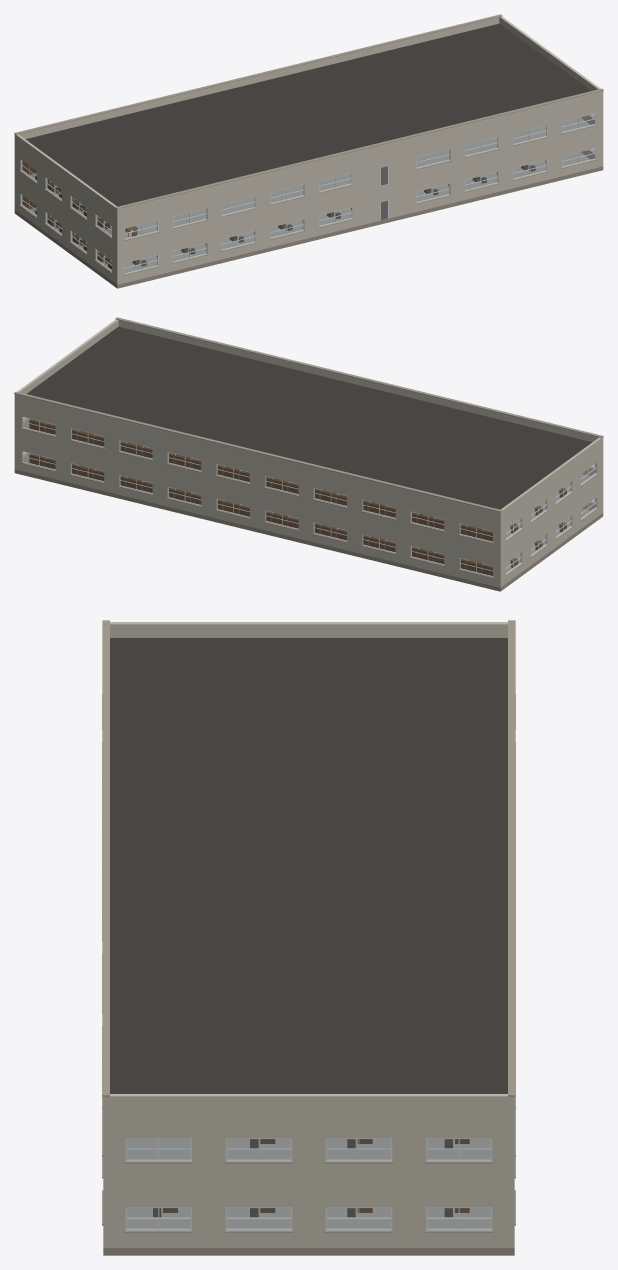
File: headquarters.glb
The picture shows the model from 3 angles, top to bottom: view 1: azimuth 30°, elevation 25°; view 2: azimuth 150°, elevation 25°; view 3: azimuth 270°, elevation 25°; orthographic projection. The views are drawn at different scales.
Visible parts, largest first — view 1: LOD0, FURN; view 2: LOD0, FURN; view 3: LOD0, FURN.
Part boxes in pixels (left/top/right/bottom): LOD0: left=14, top=14, right=603, bottom=288; FURN: left=22, top=160, right=545, bottom=269; LOD0: left=14, top=317, right=603, bottom=591; FURN: left=29, top=419, right=566, bottom=575; LOD0: left=102, top=620, right=515, bottom=1255; FURN: left=153, top=1139, right=469, bottom=1217.
Size of what is drawn, in the model's own units: 60.12 by 9.48 by 22.12.
